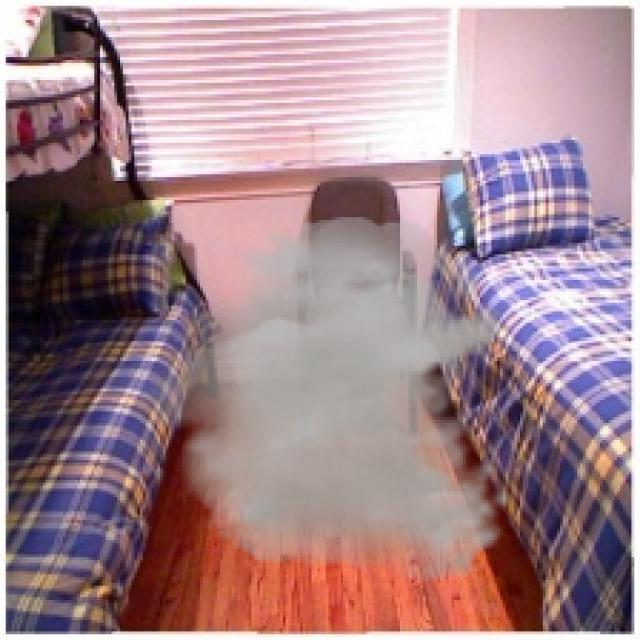Smoke: (128, 217, 514, 583)
